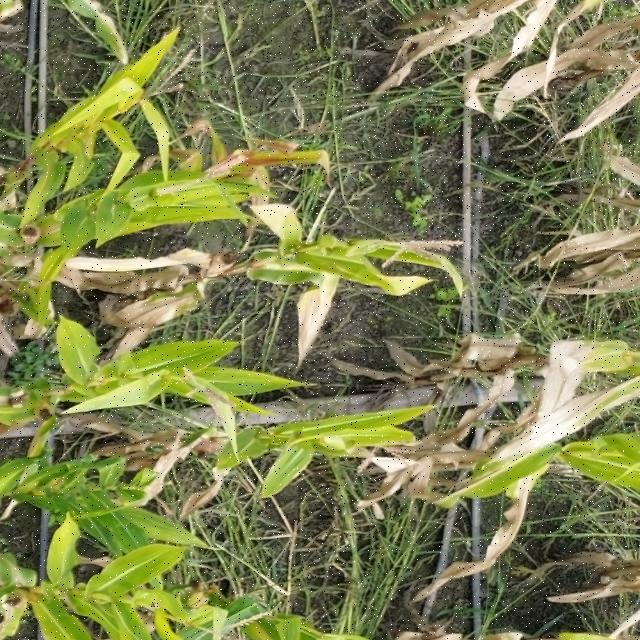northern-leaf-blight: (456, 466, 515, 499), (263, 254, 320, 283), (38, 216, 78, 245), (0, 605, 33, 640), (2, 557, 36, 587)
southern-leaf-blight: (108, 511, 142, 550)
